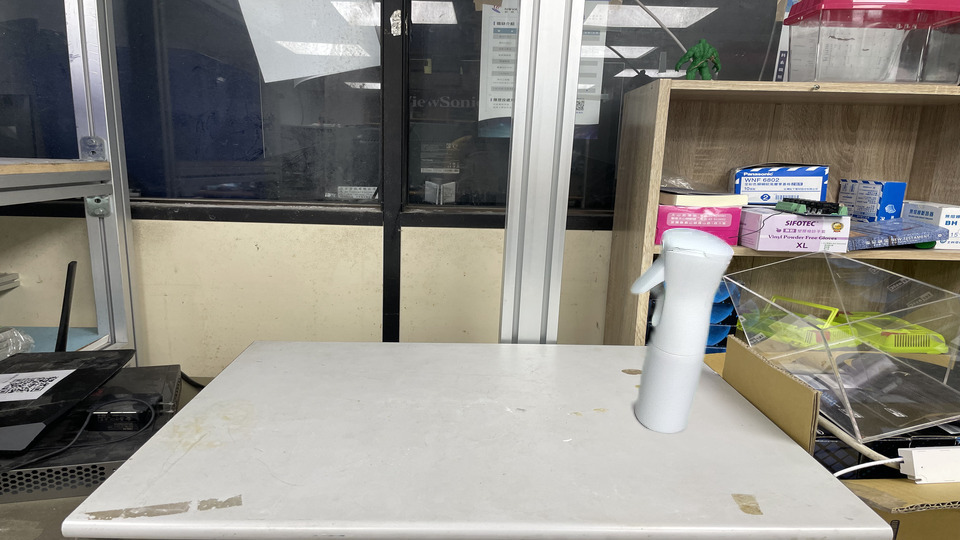columnar: (630, 226, 736, 435)
